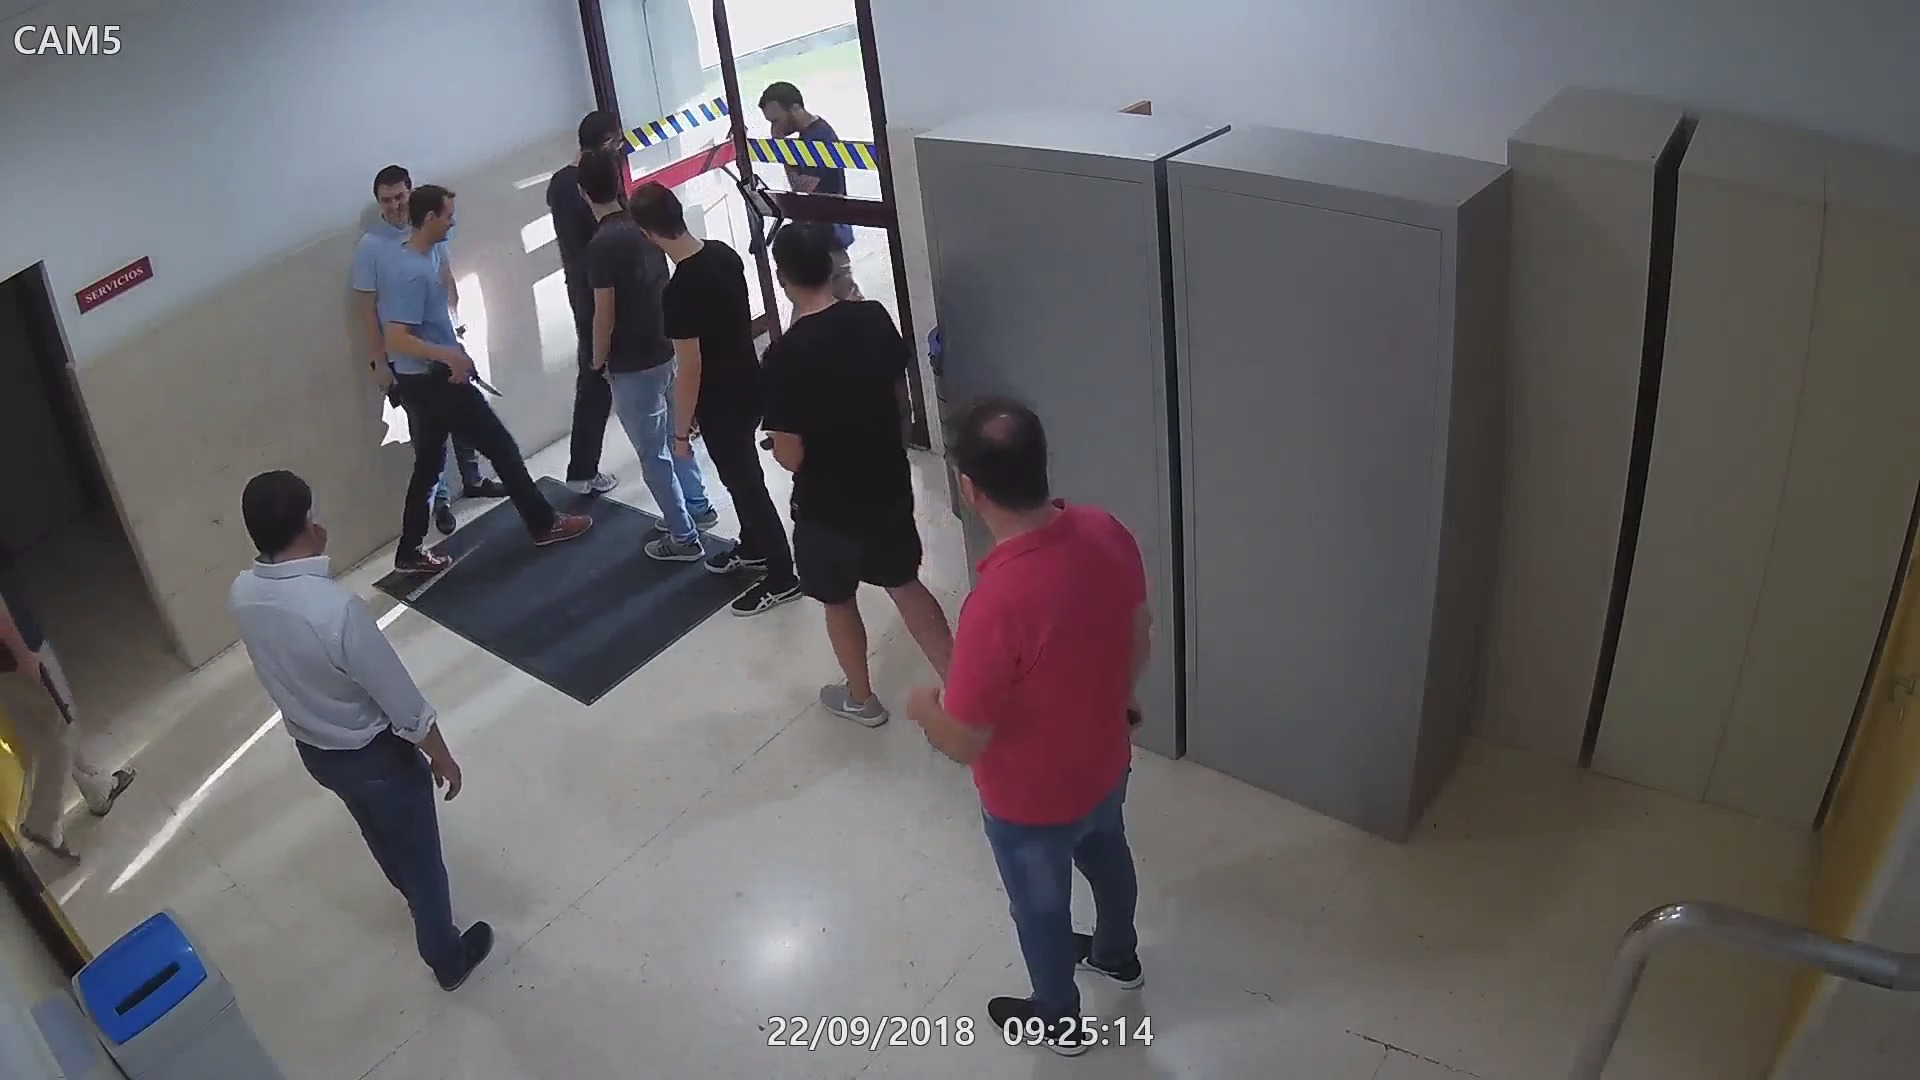Handgun: (382, 729, 421, 775), (429, 363, 458, 405)
Knife: (458, 359, 510, 401)
Short_rifle: (15, 645, 73, 723)
